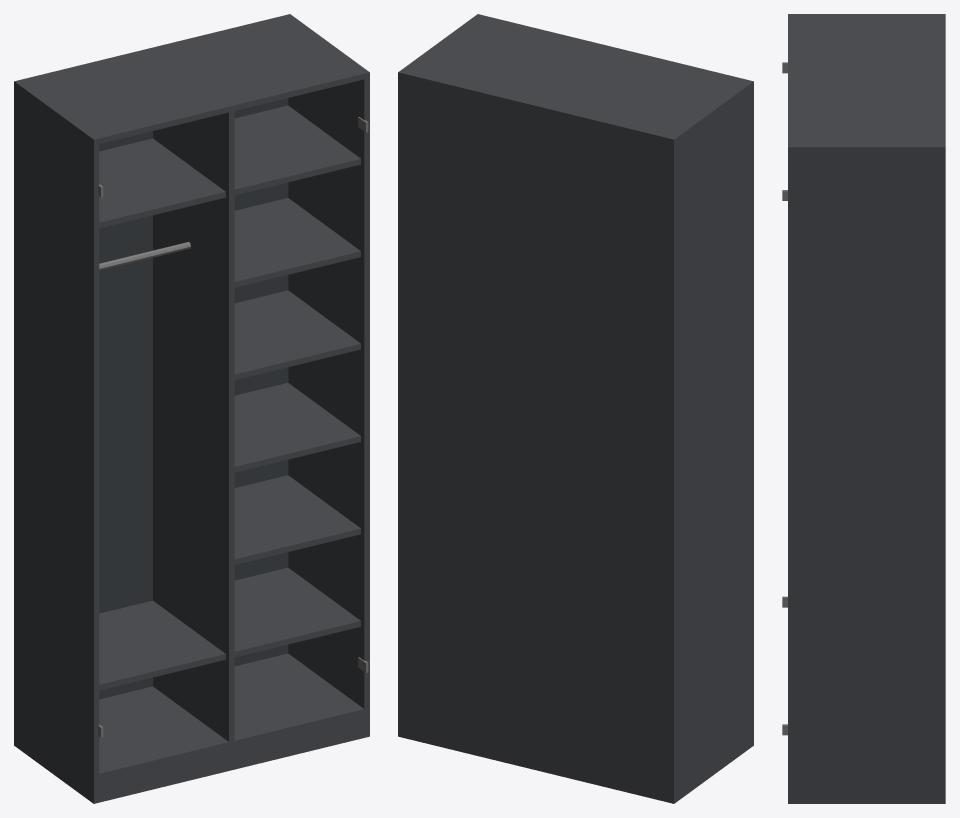
The model's file is Wardrobe4_C2.fbx.
3 views of the same model, side by side, from view 1: azimuth 30°, elevation 25°; view 2: azimuth 150°, elevation 25°; view 3: azimuth 270°, elevation 25° (orthographic).
Visible parts, largest first — view 1: Wardrobe4_C2; view 2: Wardrobe4_C2; view 3: Wardrobe4_C2.
Boxes of the visible parts, left/top/right/bottom form: Wardrobe4_C2: left=14, top=14, right=369, bottom=803; Wardrobe4_C2: left=398, top=14, right=753, bottom=803; Wardrobe4_C2: left=782, top=14, right=945, bottom=803.
Bounding box in the file's own units: 100 × 230 × 51.79.
